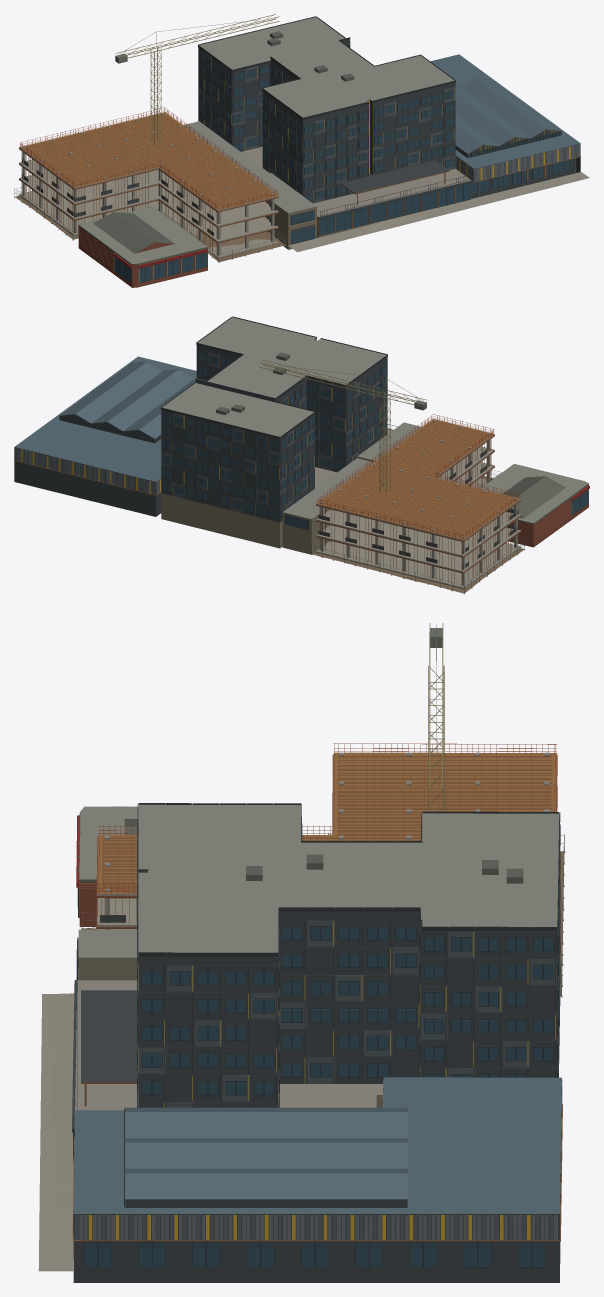
The model's file is site.glb.
3 renders of one model, top to bottom at view 1: azimuth 30°, elevation 25°; view 2: azimuth 150°, elevation 25°; view 3: azimuth 270°, elevation 25°, orthographic. The views are drawn at different scales.
Parts seen in each view (by area): view 1: roof-5ed4d412, alder-thirteenth-ground, alder-duck-store, alder-thirteenth-corner, alder-gopuran; view 2: roof-5ed4d412, alder-thirteenth-ground, alder-duck-store, alder-thirteenth-corner, alder-gopuran; view 3: roof-5ed4d412, alder-duck-store, alder-thirteenth-ground, alder-thirteenth-corner, alder-gopuran.
Boxes of the visible parts, box(x1,y1,x2,y2) form: roof-5ed4d412: box(198, 16, 471, 237); alder-thirteenth-ground: box(14, 14, 589, 262); alder-duck-store: box(430, 54, 580, 198); alder-thirteenth-corner: box(78, 206, 207, 287); alder-gopuran: box(183, 121, 317, 249); roof-5ed4d412: box(161, 316, 397, 548); alder-thirteenth-ground: box(259, 360, 525, 594); alder-duck-store: box(14, 356, 196, 516); alder-thirteenth-corner: box(480, 464, 589, 547); alder-gopuran: box(282, 422, 421, 554); roof-5ed4d412: box(72, 803, 560, 1164); alder-duck-store: box(72, 1077, 562, 1282); alder-thirteenth-ground: box(38, 623, 565, 1271); alder-thirteenth-corner: box(76, 806, 138, 926); alder-gopuran: box(76, 929, 138, 980).
Bounding box in the file's own units: 103 × 36.1 × 52.4.
